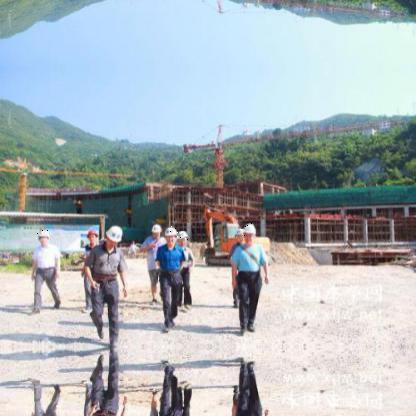safetyhelmet: (107, 222, 123, 244), (243, 223, 255, 238), (37, 226, 52, 238), (163, 226, 177, 236), (177, 232, 191, 242), (84, 228, 100, 236), (151, 224, 162, 234), (236, 230, 244, 240)
